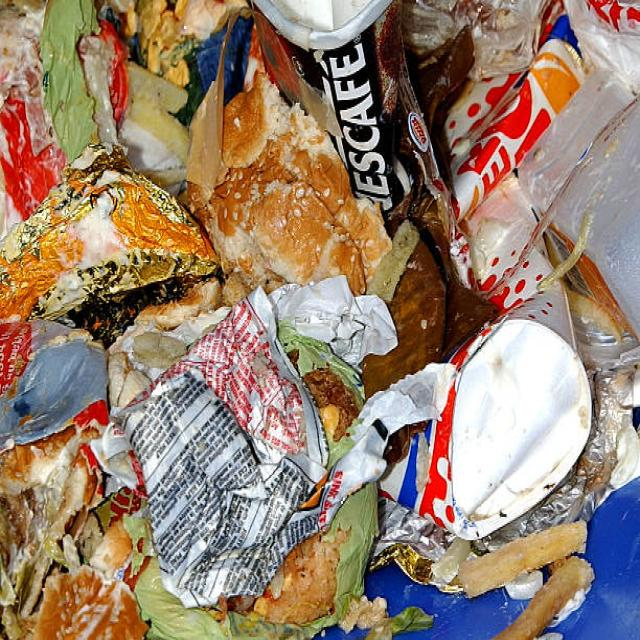trash: (3, 40, 611, 568)
